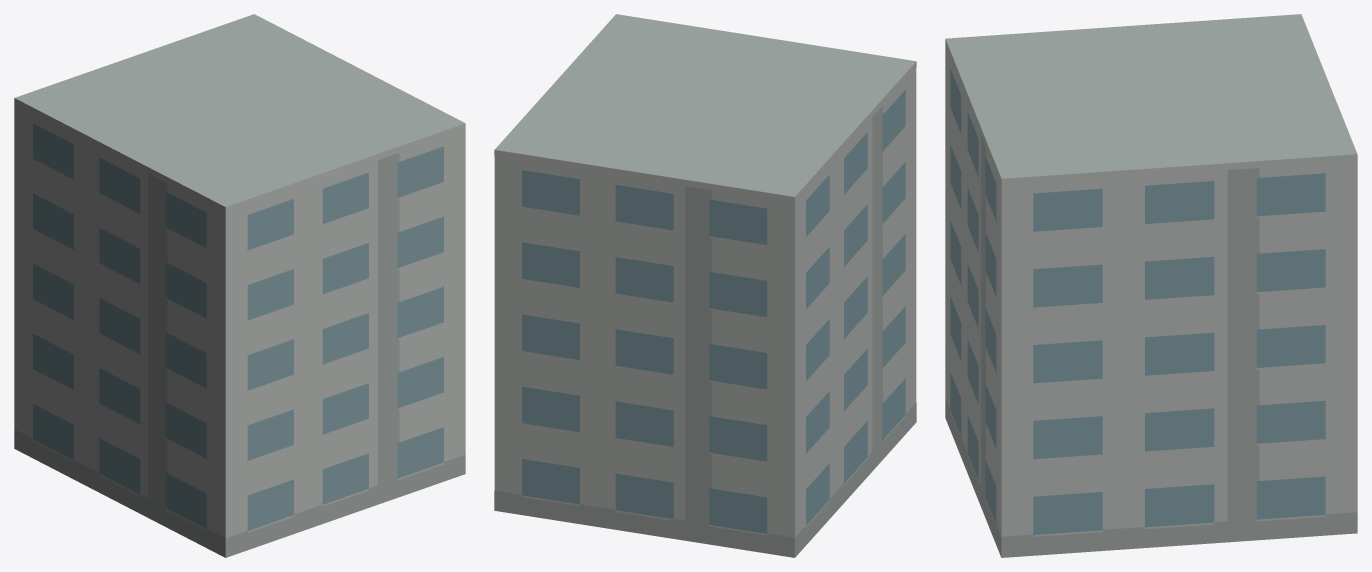
File: survey-upis-32575696.glb
3 renders of one model, left to right at view 1: azimuth 30°, elevation 25°; view 2: azimuth 150°, elevation 25°; view 3: azimuth 270°, elevation 25°, orthographic. The views are drawn at different scales.
Parts seen in each view (by area): view 1: survey-upis-32575696.tmp; view 2: survey-upis-32575696.tmp; view 3: survey-upis-32575696.tmp.
Boxes of the visible parts, x1,y1,x2,y2 form: survey-upis-32575696.tmp: (14, 14, 465, 557); survey-upis-32575696.tmp: (494, 14, 916, 557); survey-upis-32575696.tmp: (945, 14, 1357, 557).
Bounding box in the file's own units: 12.64 × 13.55 × 13.36.
